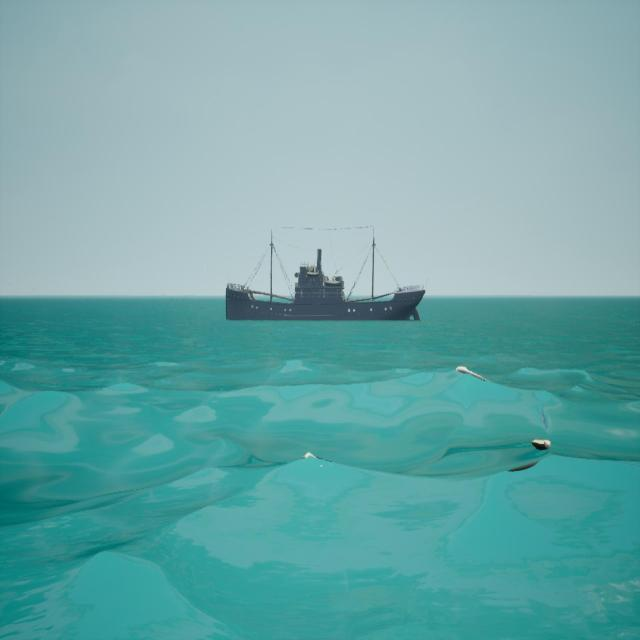fishing ship: (226, 227, 427, 323)
